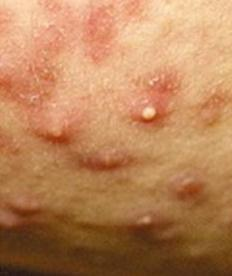cystic: (121, 210, 182, 250), (34, 115, 82, 151)
purulent: (1, 197, 58, 246), (135, 98, 166, 130)
